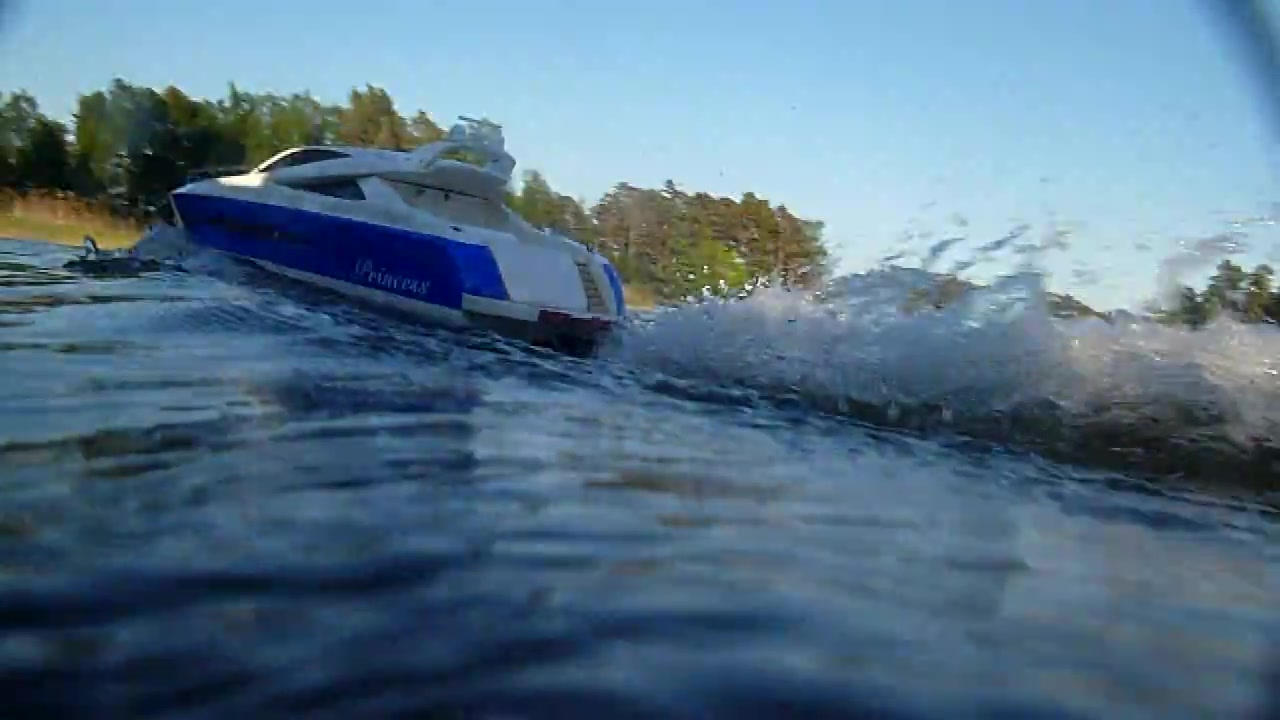boat: (170, 105, 630, 362)
